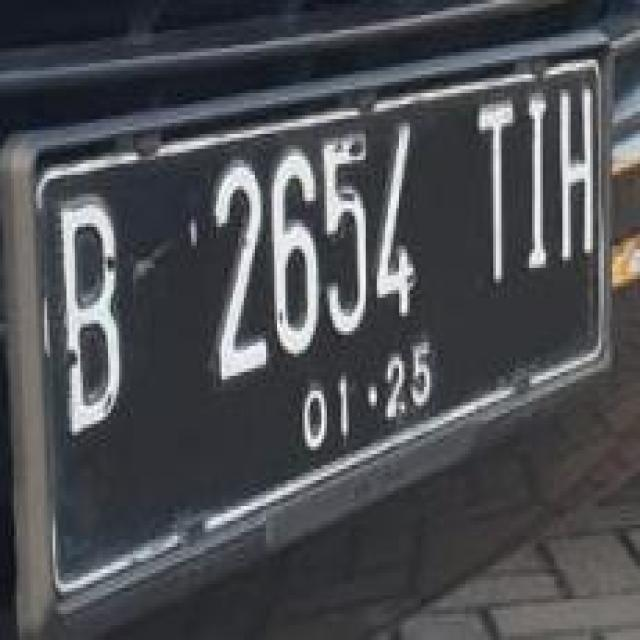2: (187, 142, 278, 411)
4: (371, 96, 427, 358)
5: (313, 112, 380, 367)
6: (261, 129, 335, 392)
B: (50, 174, 145, 470)
H: (554, 73, 607, 296)
I: (521, 78, 558, 298)
T: (471, 87, 526, 292)
